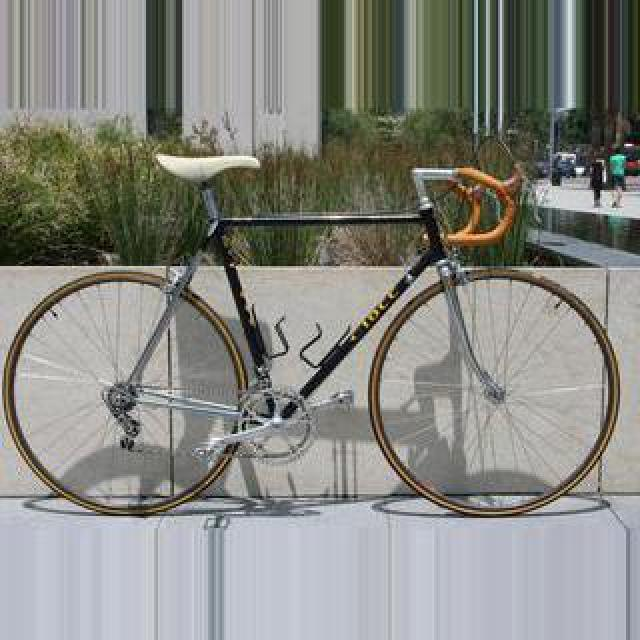Bus-Bike: (554, 154, 576, 180)
MC-Bike: (608, 152, 628, 204), (590, 160, 604, 204)
Person: (6, 121, 622, 519)
